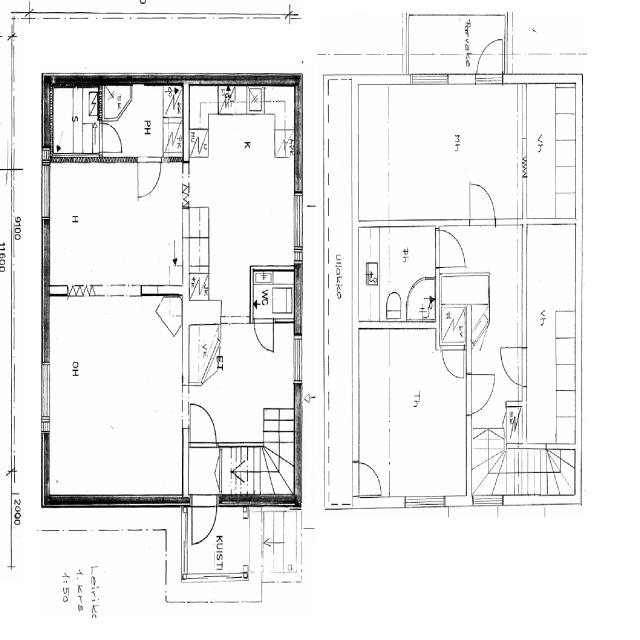door: (186, 398, 222, 448), (187, 494, 219, 549), (466, 177, 498, 228), (435, 225, 469, 272), (465, 370, 497, 417), (474, 36, 504, 83), (498, 345, 528, 389), (354, 458, 384, 499), (135, 158, 162, 202), (440, 343, 467, 380), (98, 120, 125, 155), (252, 316, 276, 355)
window: (37, 357, 54, 433), (290, 188, 306, 254), (38, 162, 53, 226), (290, 331, 306, 389), (405, 492, 448, 512), (410, 70, 453, 88), (472, 492, 504, 508)
zone: (44, 298, 185, 506), (354, 82, 519, 224), (186, 91, 299, 297), (356, 321, 468, 504), (45, 163, 180, 295), (193, 321, 298, 444), (522, 81, 579, 224), (360, 225, 438, 324), (101, 82, 182, 160), (48, 86, 101, 160), (252, 268, 297, 326), (439, 297, 468, 350)
